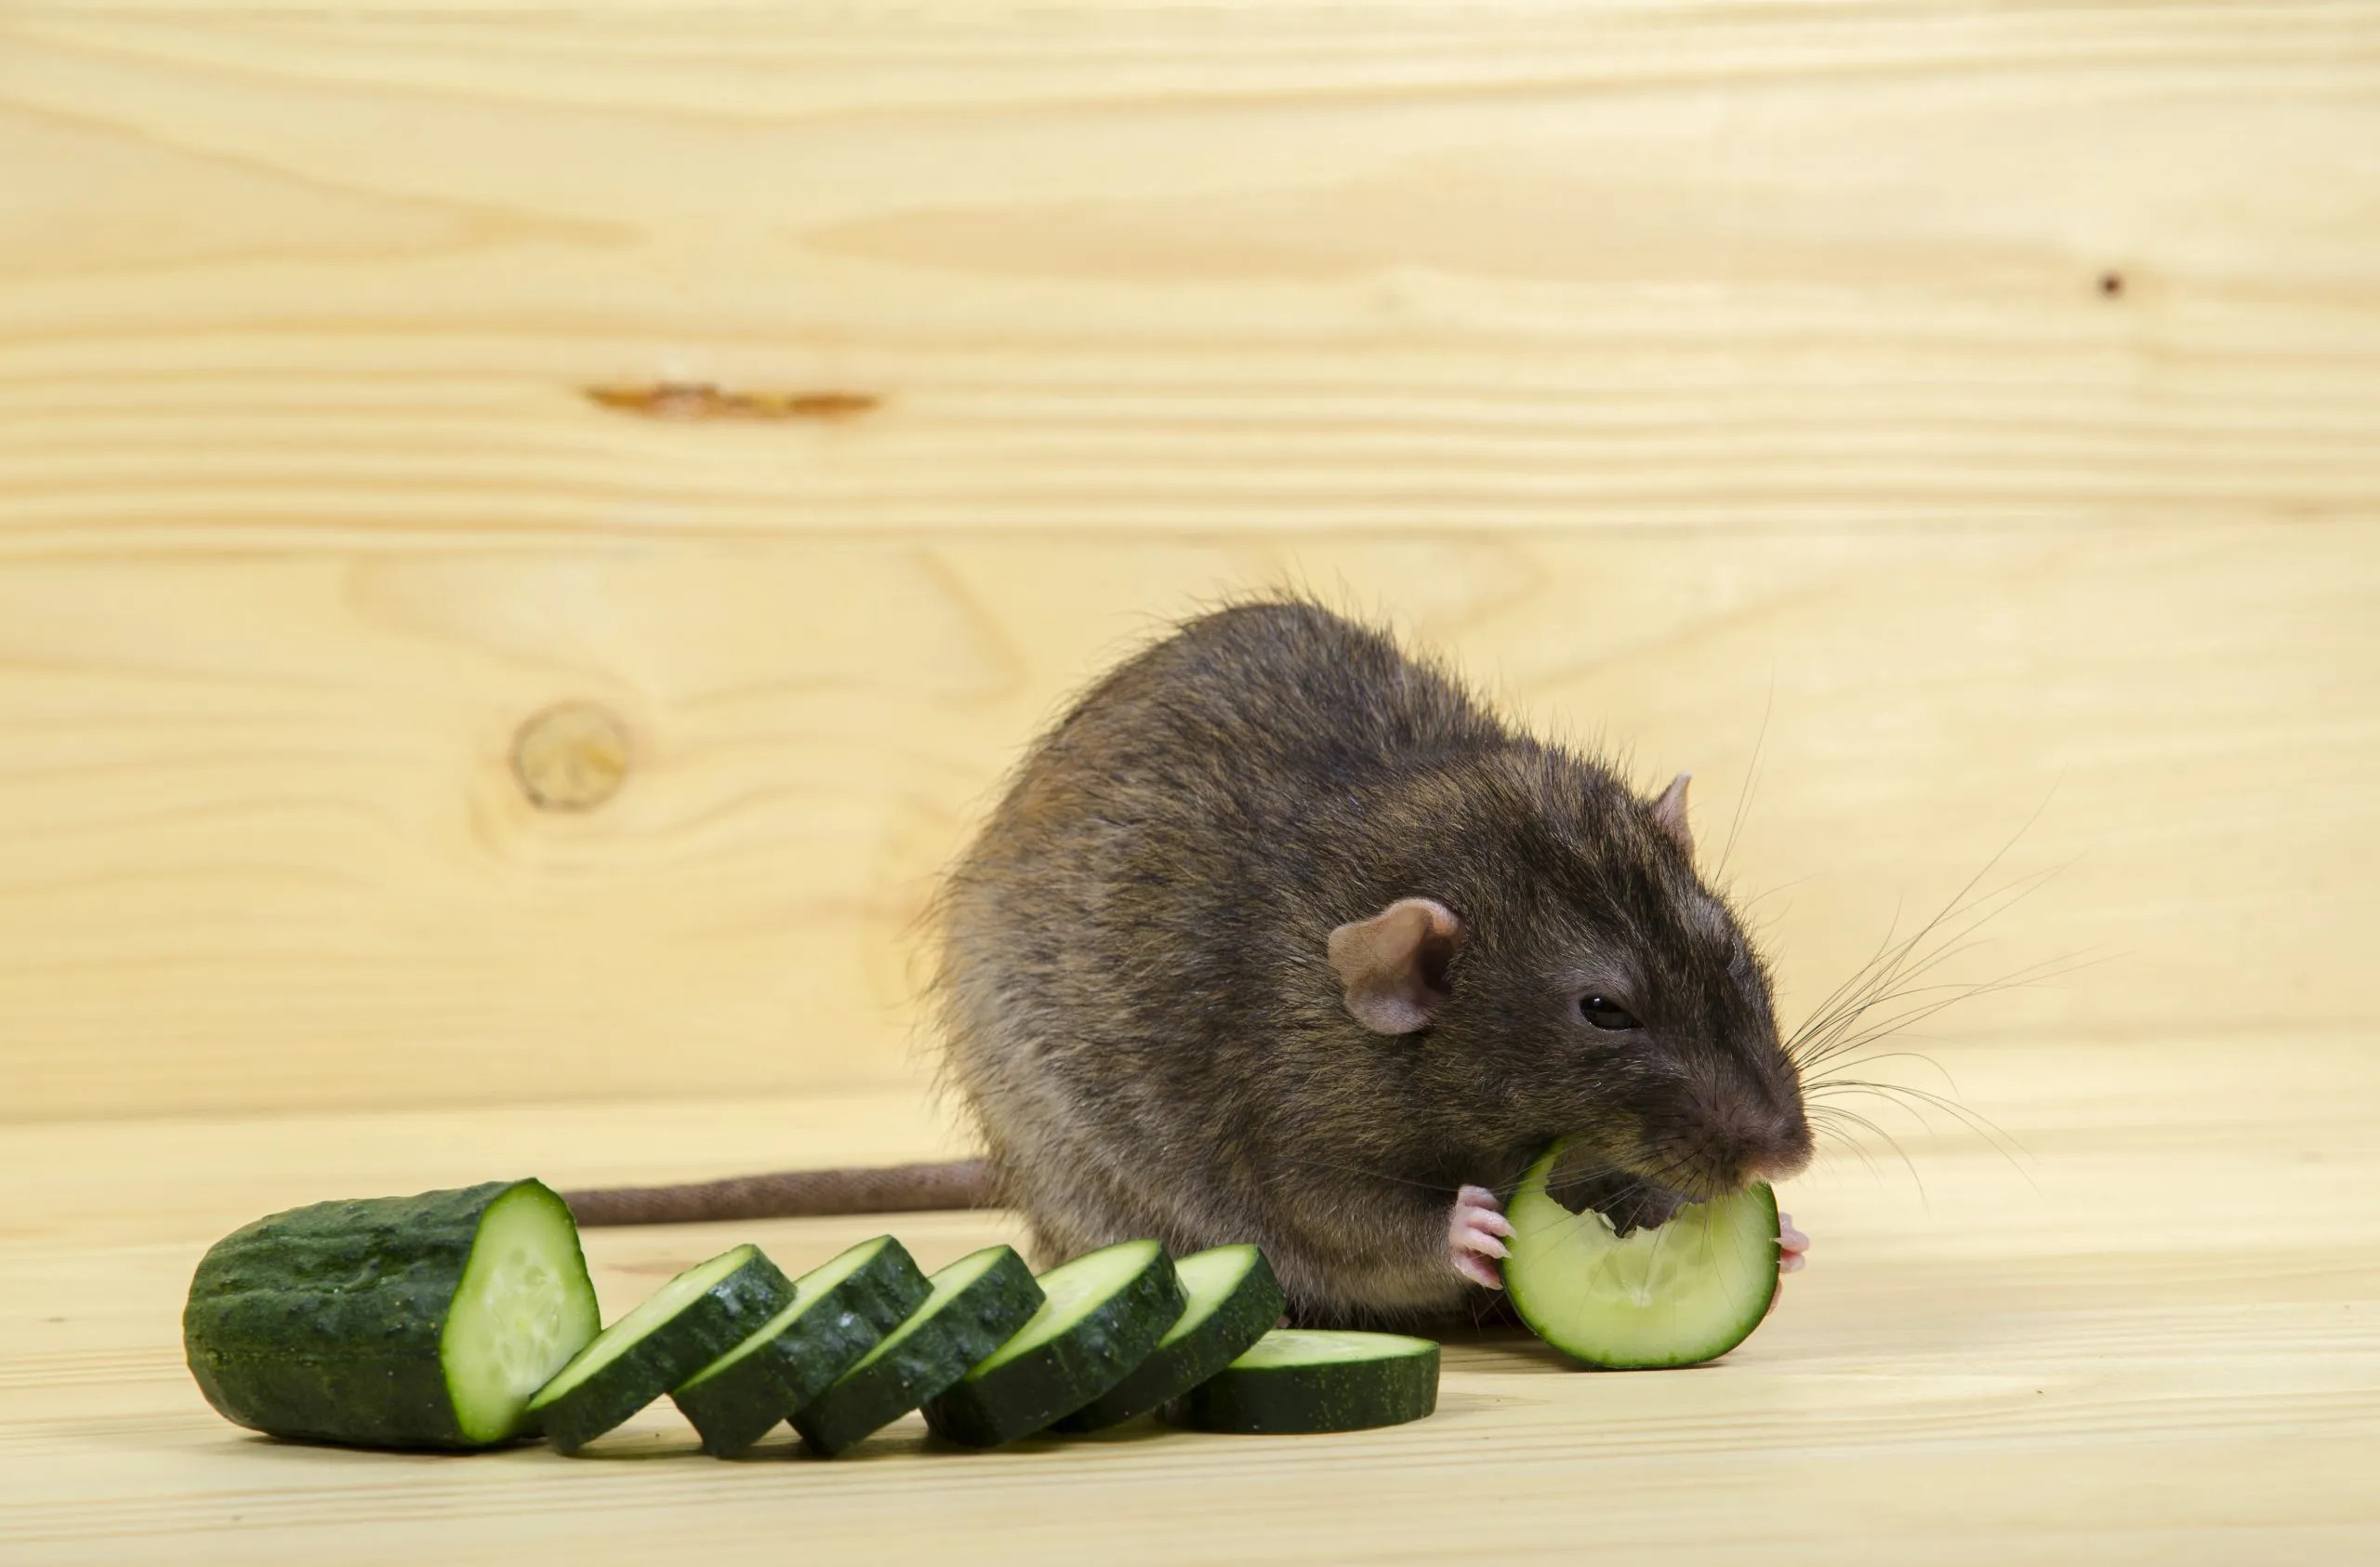rat: (556, 596, 1957, 1322)
